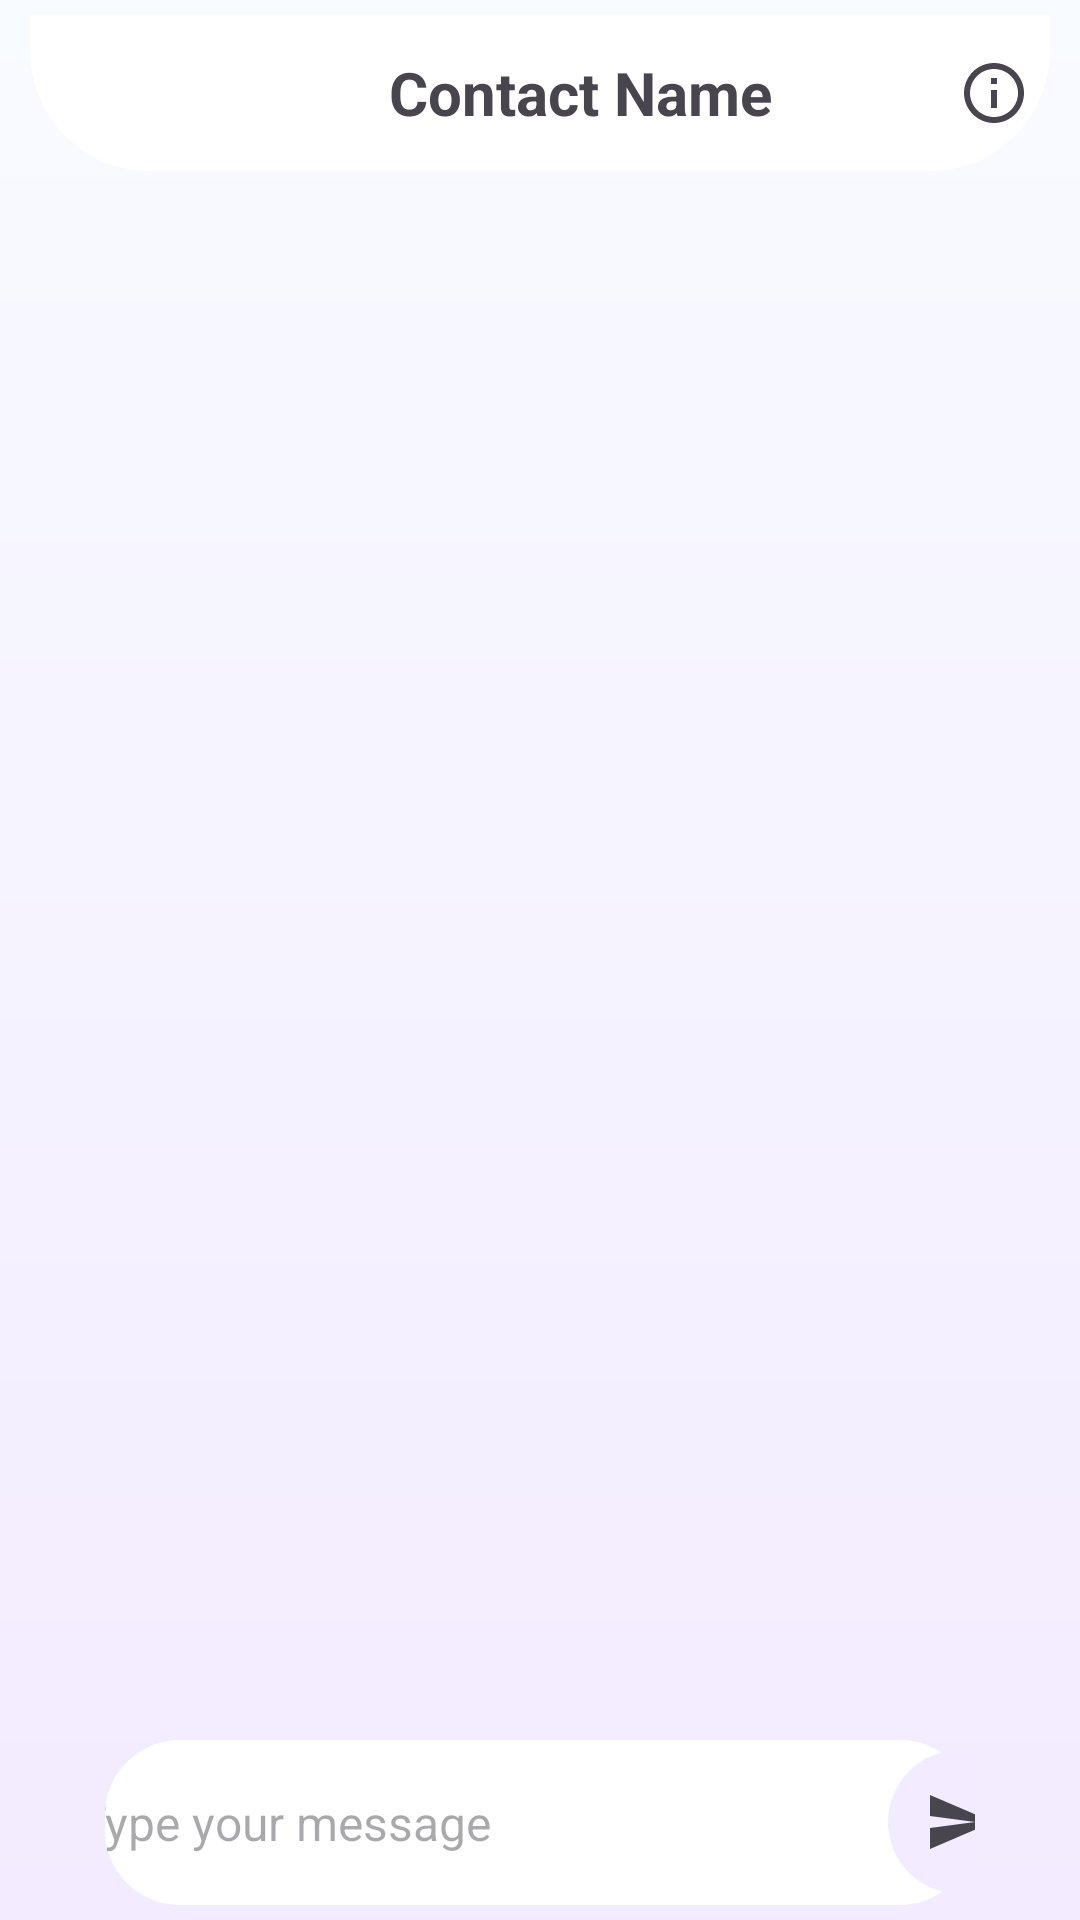

Icon click points for this 1080x1920 phone screenshot, format (x,y):
info: (994,93)
